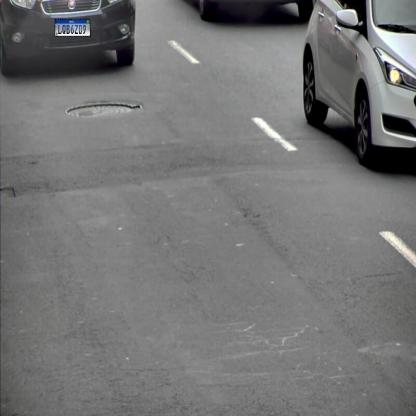PlacaM: (54, 18, 90, 36)
